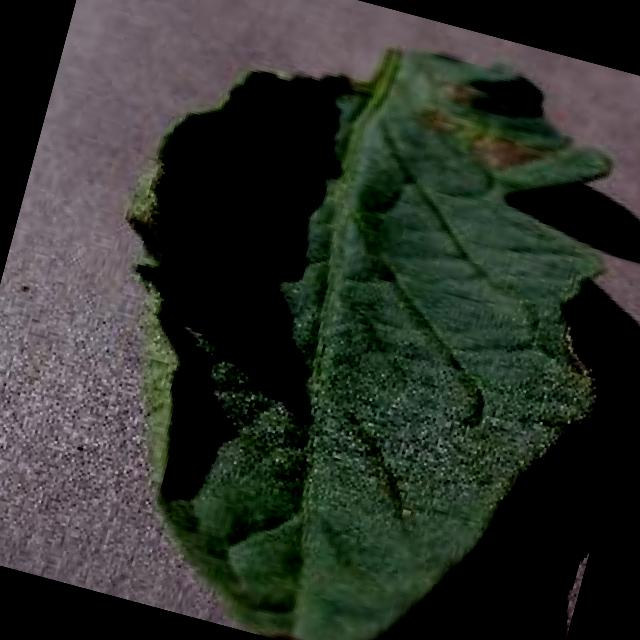leaf blight: (122, 54, 612, 640)
